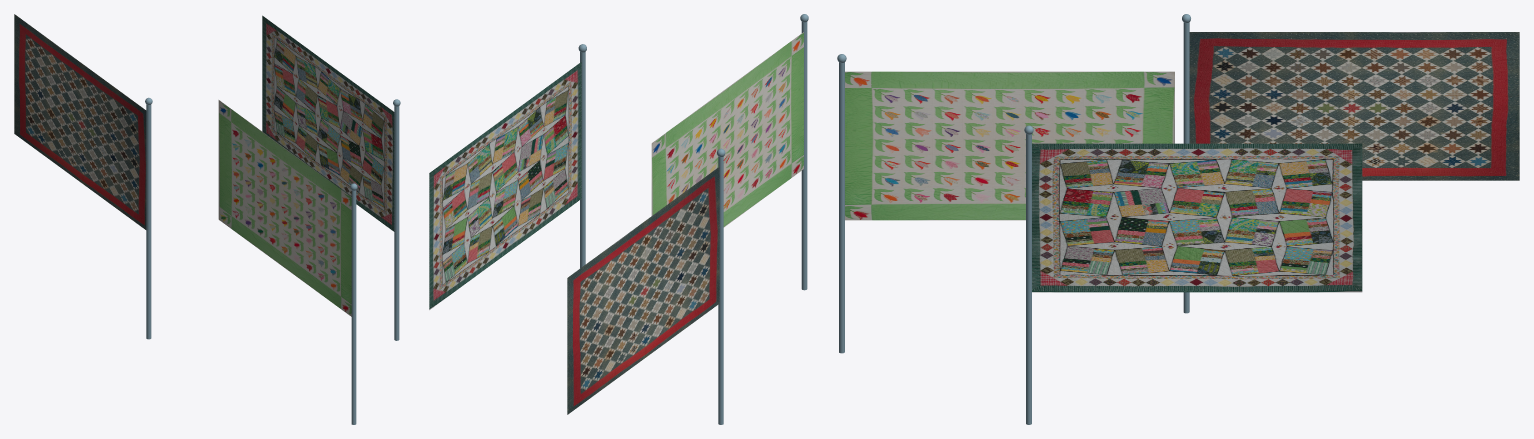
Rendered from three_flags_animations_demo.glb.
The picture shows the model from 3 angles, left to right: view 1: azimuth 30°, elevation 25°; view 2: azimuth 150°, elevation 25°; view 3: azimuth 270°, elevation 25°; orthographic projection. The views are drawn at different scales.
Visible parts, largest first — view 1: Plane.001, Plane.002, Plane, Cylinder.001, Cylinder.002, Cylinder; view 2: Plane.002, Plane, Plane.001, Cylinder.002, Cylinder.001, Cylinder; view 3: Plane, Plane.002, Plane.001, Cylinder, Cylinder.001, Cylinder.002.
Boxes of the visible parts, x1,y1,x2,y2 form: Plane.001: [218, 100, 351, 316]; Plane.002: [14, 14, 146, 229]; Plane: [262, 15, 394, 231]; Cylinder.001: [350, 183, 357, 424]; Cylinder.002: [145, 97, 152, 339]; Cylinder: [393, 99, 400, 340]; Plane.002: [567, 166, 719, 414]; Plane: [429, 62, 581, 309]; Plane.001: [651, 32, 803, 227]; Cylinder.002: [717, 148, 725, 424]; Cylinder.001: [800, 14, 808, 290]; Cylinder: [578, 44, 586, 268]; Plane: [1032, 143, 1362, 292]; Plane.002: [1189, 32, 1519, 180]; Plane.001: [845, 71, 1174, 220]; Cylinder: [1024, 125, 1033, 424]; Cylinder.001: [837, 54, 846, 353]; Cylinder.002: [1182, 14, 1190, 313].
Bounding box in the file's own units: 3.33 × 4.01 × 8.32.
6 materials, 3 textured.
